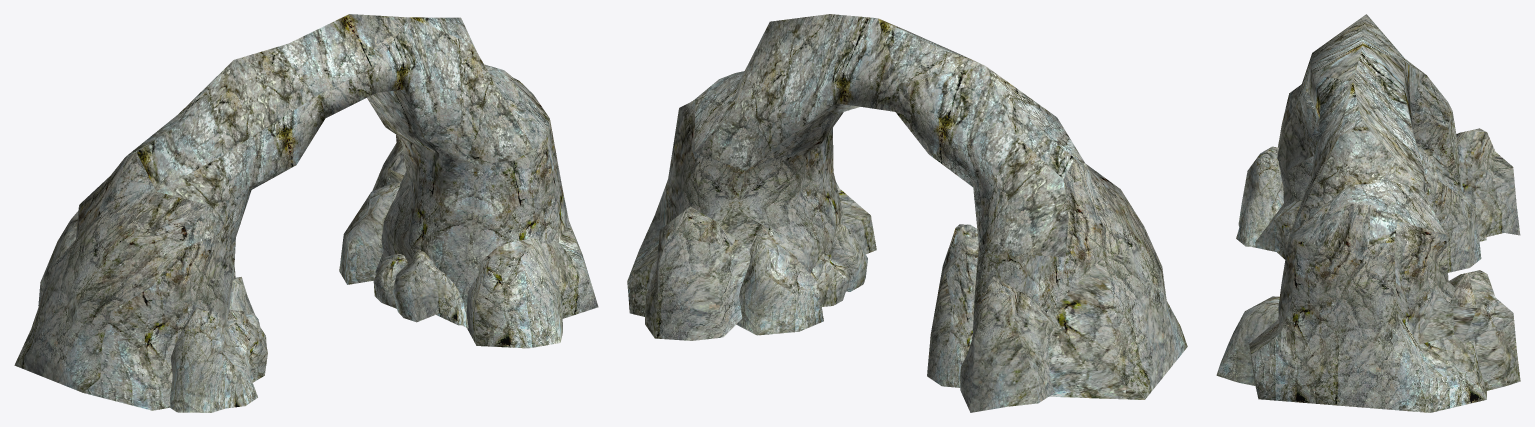
File: general_obj_bigstonegate01.fbx
The picture shows the model from 3 angles, left to right: view 1: azimuth 30°, elevation 25°; view 2: azimuth 150°, elevation 25°; view 3: azimuth 270°, elevation 25°; orthographic projection. The views are drawn at different scales.
Parts seen in each view (by area): view 1: Object03; view 2: Object03; view 3: Object03.
Boxes of the visible parts, x1=… form: Object03: x1=14, y1=14, x2=598, y2=412; Object03: x1=627, y1=14, x2=1187, y2=412; Object03: x1=1216, y1=14, x2=1520, y2=412.
Bounding box in the file's own units: 62.52 × 34.26 × 34.63.
